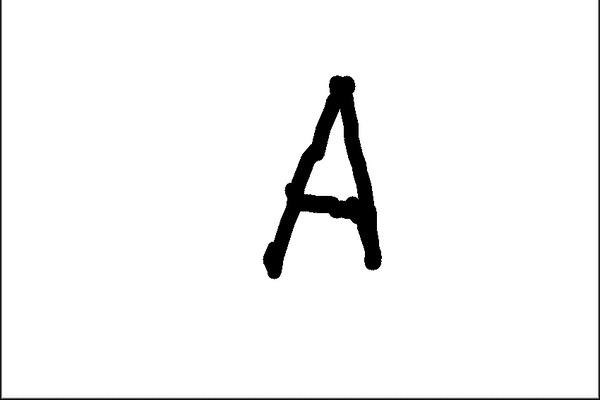A: (249, 68, 390, 286)
